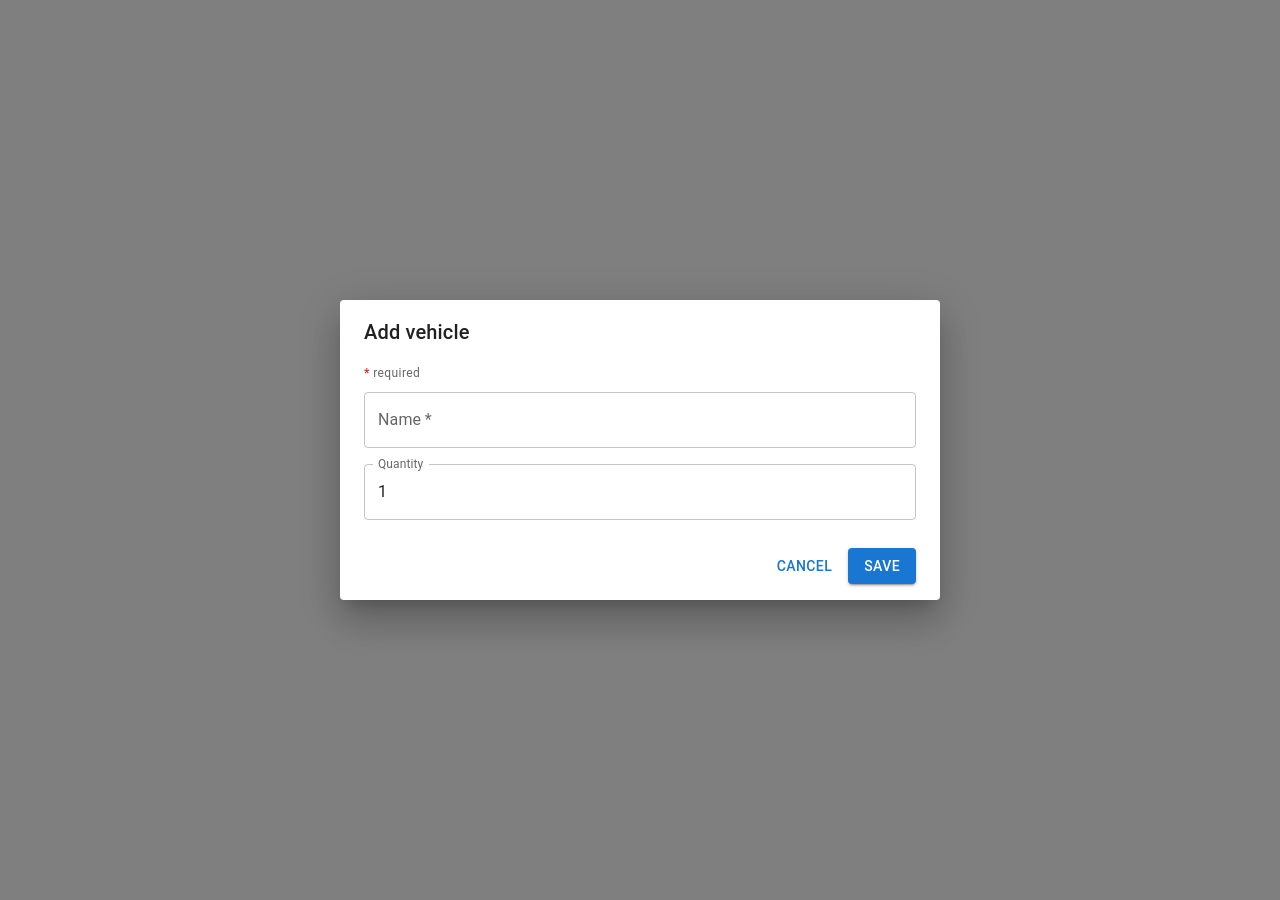
EntityFormDialog — validation failure scrolls to the first invalid field › throwing FieldValidationError does the same and shows its message in the Alert
Click the button "Save".
click(882, 566)  # box [848,548,916,584]
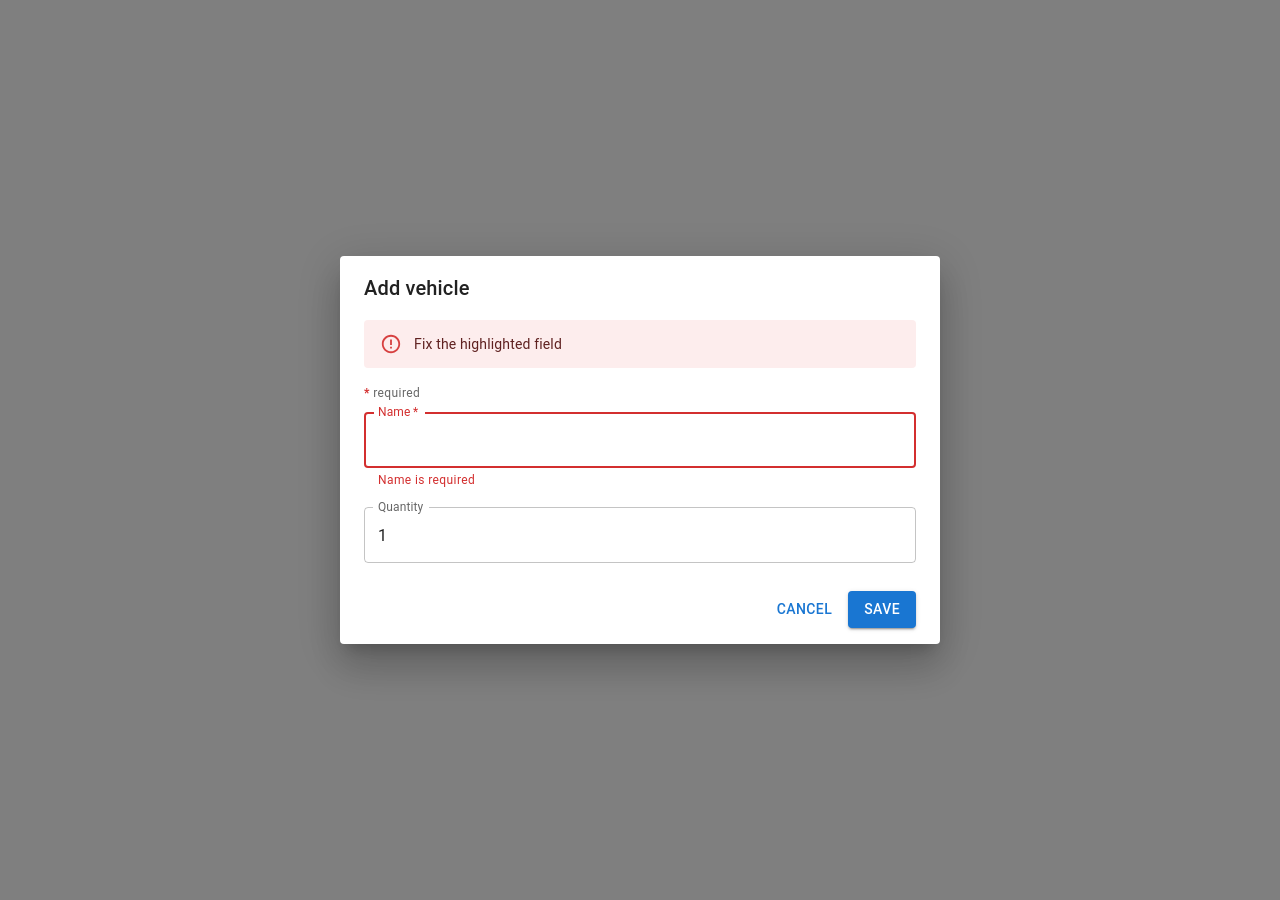
Result: the message reads "Fix the highlighted field" at [414,336,562,352]
